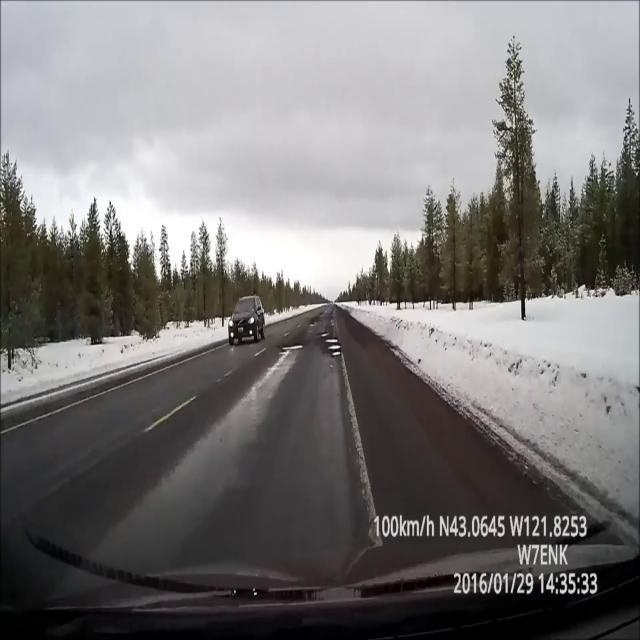pothole: (272, 334, 306, 358), (320, 328, 342, 365), (328, 298, 340, 334), (303, 311, 320, 334)
